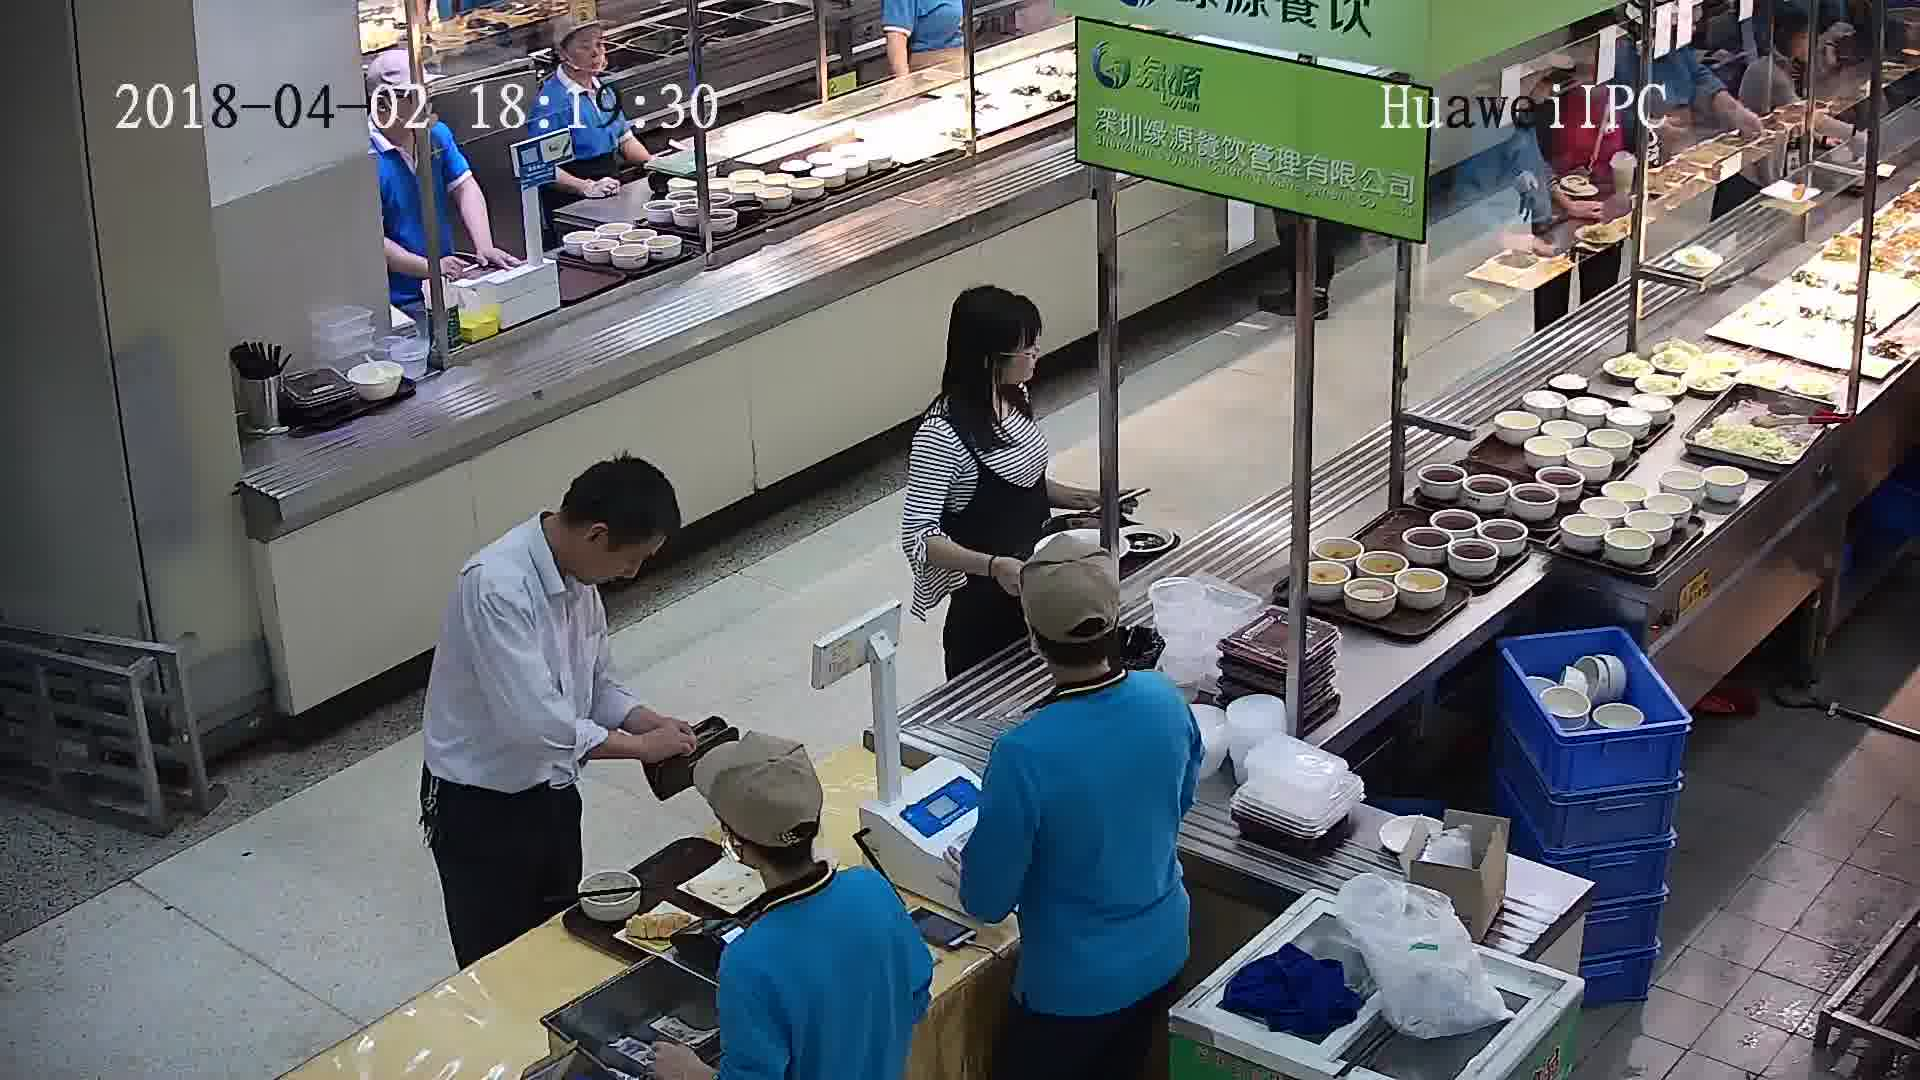face: (985, 314, 1054, 383), (564, 27, 609, 72)
person: (991, 543, 1199, 801), (701, 732, 908, 988), (443, 450, 681, 659), (913, 280, 1052, 457), (531, 18, 622, 118), (365, 69, 457, 161)
